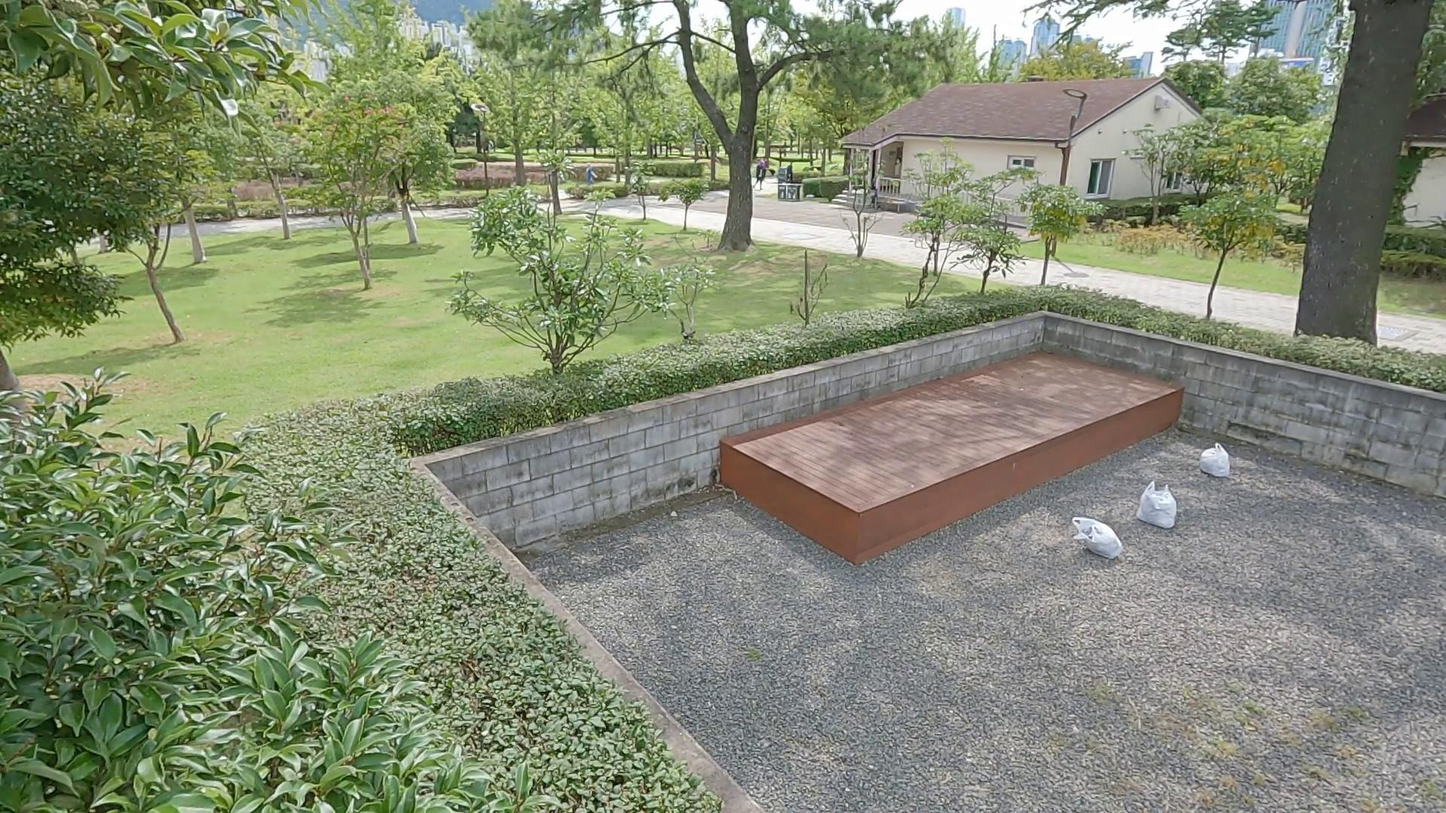trash: (1068, 514, 1122, 562), (1137, 478, 1177, 530), (1198, 440, 1231, 478)
